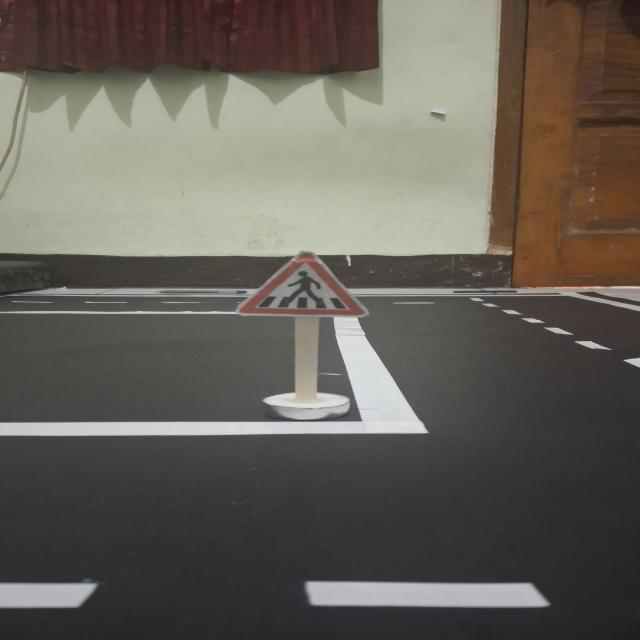Rambu Penyebrangan: (237, 251, 366, 316)
